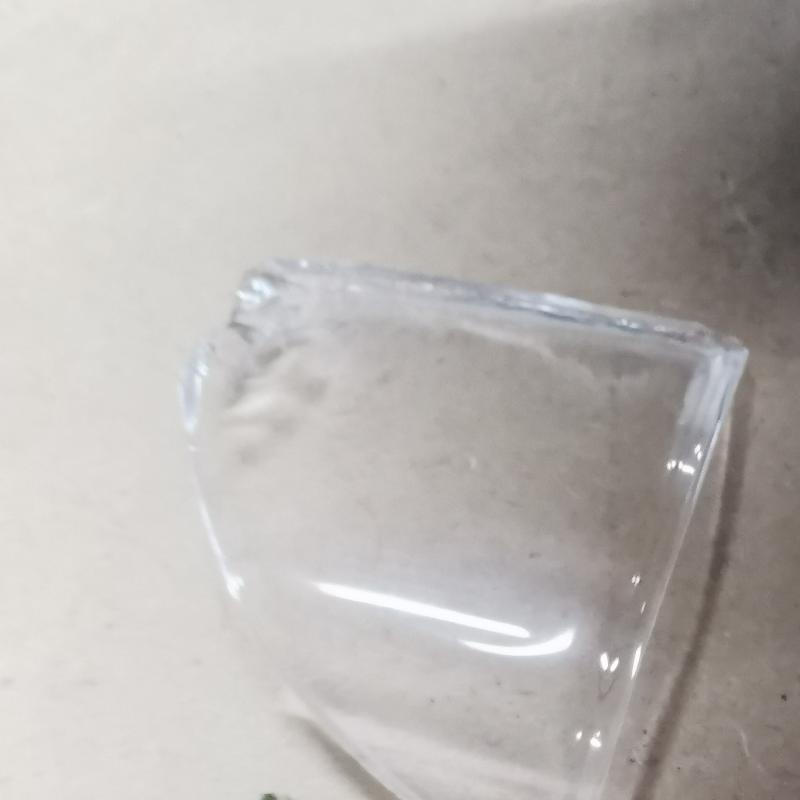glass: (189, 240, 750, 800)
